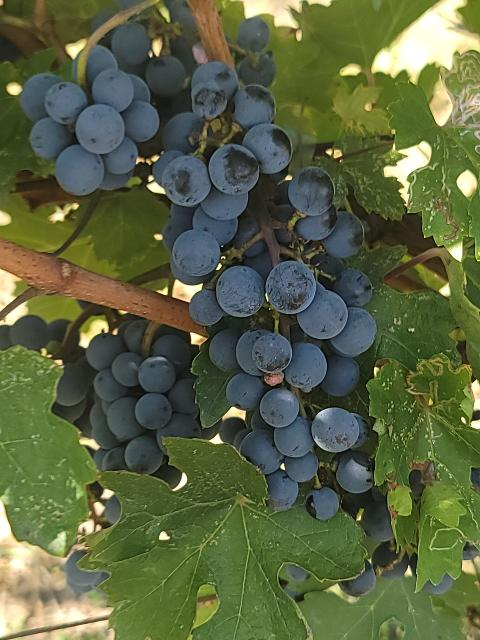grapes: (190, 260, 392, 541), (2, 315, 209, 480), (20, 21, 185, 196)
